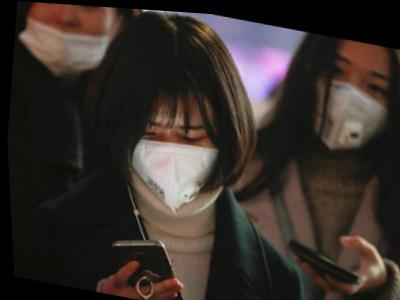OK: (117, 94, 229, 215), (302, 40, 400, 156)
